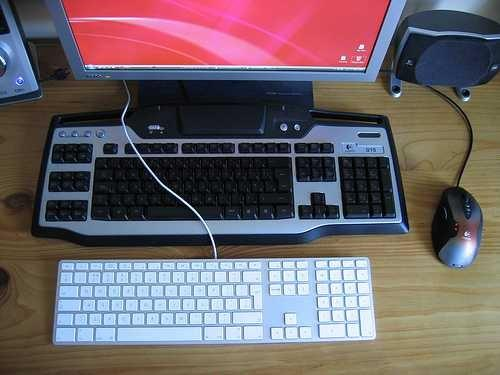Keyboard: (48, 257, 377, 348)
